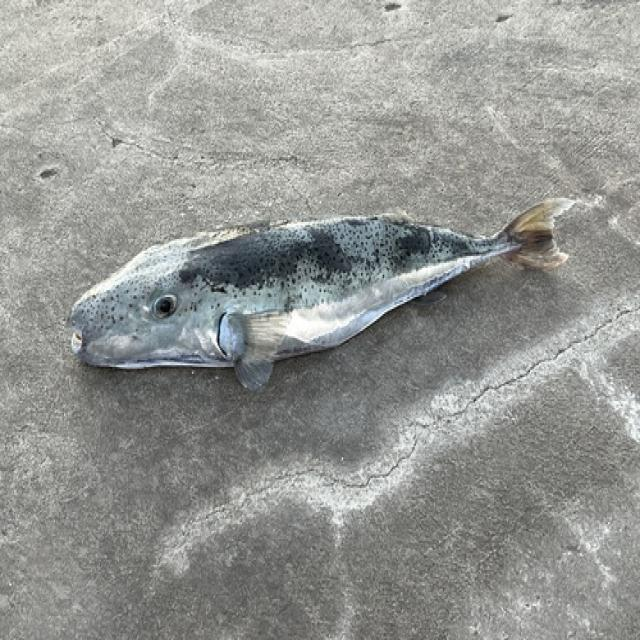Balik: (70, 200, 572, 389)
